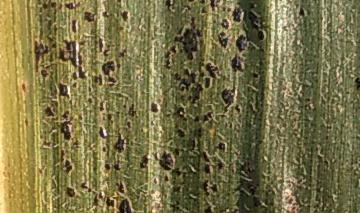tarspot: (172, 15, 206, 63), (57, 36, 89, 80), (219, 74, 239, 114), (247, 9, 268, 41), (33, 39, 50, 74), (101, 59, 119, 88), (111, 130, 130, 155), (181, 67, 198, 92), (187, 82, 204, 105), (157, 150, 175, 171), (229, 53, 247, 74), (56, 79, 72, 102), (117, 194, 135, 213), (204, 61, 221, 80), (59, 121, 74, 142), (235, 34, 250, 52), (138, 150, 152, 169), (217, 31, 230, 50), (245, 181, 261, 196), (232, 5, 244, 24), (213, 158, 227, 174), (201, 178, 212, 198), (43, 104, 58, 118), (97, 124, 110, 140), (104, 194, 117, 210), (127, 102, 139, 119), (168, 199, 182, 213), (63, 158, 74, 175), (119, 9, 132, 23), (64, 1, 84, 10), (71, 17, 81, 35), (200, 149, 212, 164), (115, 178, 126, 194), (83, 10, 96, 23), (149, 100, 161, 114), (215, 139, 227, 153), (252, 195, 264, 209), (97, 36, 106, 54), (64, 185, 76, 198), (173, 105, 185, 118), (170, 185, 184, 196), (220, 16, 231, 30), (180, 1, 192, 13), (175, 127, 187, 139), (203, 75, 212, 91), (93, 73, 104, 86), (164, 1, 177, 12), (112, 158, 122, 172), (203, 162, 213, 176), (60, 109, 72, 120), (171, 166, 182, 178), (264, 197, 276, 208), (92, 192, 100, 207), (97, 189, 107, 201), (197, 57, 205, 72), (164, 58, 173, 71), (246, 1, 260, 9), (103, 44, 113, 55), (163, 50, 173, 61), (297, 7, 307, 18), (98, 100, 107, 112), (187, 194, 199, 203), (152, 149, 160, 162), (196, 126, 204, 139), (72, 139, 82, 149), (118, 48, 128, 58), (257, 44, 267, 54), (106, 113, 115, 124), (103, 161, 112, 172), (173, 71, 182, 82), (201, 113, 210, 124), (210, 183, 219, 194), (203, 204, 214, 213), (139, 125, 146, 139), (215, 112, 229, 119), (20, 82, 28, 94), (190, 139, 198, 151), (354, 75, 360, 91), (70, 71, 79, 81), (42, 139, 51, 149), (192, 114, 201, 124), (209, 1, 217, 12), (48, 51, 55, 63), (214, 134, 226, 141), (207, 110, 216, 119), (248, 42, 257, 51), (251, 71, 260, 80), (40, 69, 48, 79), (101, 10, 111, 18), (78, 39, 88, 47), (125, 120, 133, 130), (162, 173, 170, 183), (23, 117, 30, 128), (87, 96, 94, 107), (234, 103, 241, 114), (52, 141, 60, 150), (115, 61, 123, 70), (91, 165, 99, 174), (169, 45, 177, 54), (198, 70, 206, 79), (200, 6, 208, 15), (42, 1, 49, 11), (80, 181, 88, 189), (77, 113, 85, 121), (101, 145, 108, 154), (90, 206, 99, 213), (217, 173, 224, 182), (53, 25, 59, 35), (71, 81, 79, 88), (149, 119, 156, 127), (211, 155, 219, 162), (241, 51, 248, 59), (257, 138, 264, 146), (185, 184, 191, 193), (223, 121, 229, 130), (195, 183, 201, 192), (60, 149, 65, 159), (153, 175, 158, 185), (50, 1, 57, 8), (118, 25, 125, 32), (161, 73, 168, 80), (226, 6, 233, 13), (326, 124, 333, 131), (323, 158, 330, 165), (111, 194, 119, 200), (182, 171, 188, 179), (228, 121, 234, 129), (58, 2, 63, 11), (38, 168, 44, 175), (47, 34, 53, 41), (69, 114, 75, 121), (87, 86, 93, 93), (174, 149, 180, 156), (165, 112, 172, 118), (183, 115, 189, 122), (195, 174, 202, 180), (170, 70, 176, 77), (221, 74, 227, 81), (221, 5, 227, 12), (214, 98, 220, 105), (259, 60, 265, 67), (306, 96, 313, 102), (324, 134, 330, 141), (101, 112, 106, 120), (267, 189, 275, 194), (52, 43, 58, 49), (93, 39, 99, 45), (122, 103, 128, 109), (167, 107, 173, 113), (196, 102, 202, 108), (192, 105, 198, 111), (211, 18, 217, 24), (315, 145, 321, 151), (130, 140, 135, 147), (180, 85, 185, 92), (215, 127, 220, 134), (209, 178, 214, 185), (307, 8, 312, 15), (55, 164, 61, 169), (186, 1, 196, 4), (178, 48, 184, 53), (172, 180, 178, 185), (169, 141, 175, 146), (166, 24, 171, 30), (209, 120, 214, 126), (214, 121, 220, 126), (295, 2, 301, 7), (261, 69, 267, 74), (134, 129, 138, 136), (200, 1, 207, 5), (176, 91, 181, 96), (227, 48, 232, 53), (209, 94, 214, 99), (216, 85, 221, 90), (234, 207, 239, 212), (119, 195, 125, 199), (222, 83, 226, 89), (116, 1, 123, 4), (165, 100, 169, 105), (211, 85, 215, 90), (173, 176, 177, 179), (196, 10, 199, 14)
